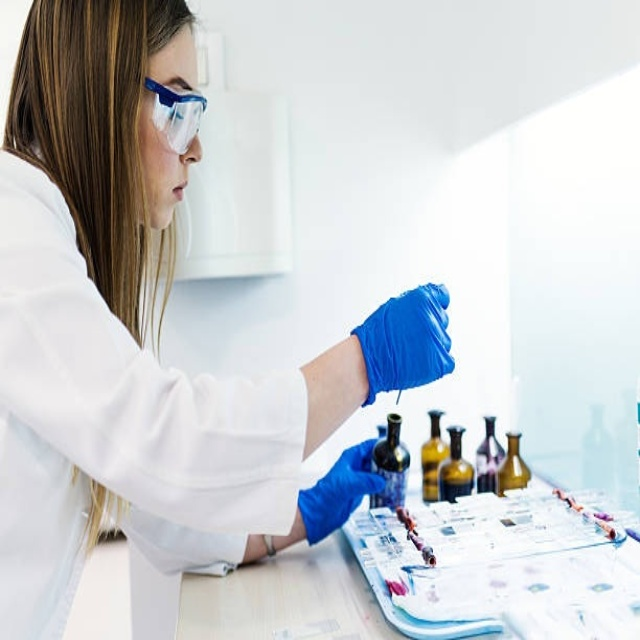Gafas: (144, 78, 209, 155)
Guantes: (351, 282, 455, 407), (296, 434, 394, 548)
Sin_mascara: (145, 161, 199, 232)
